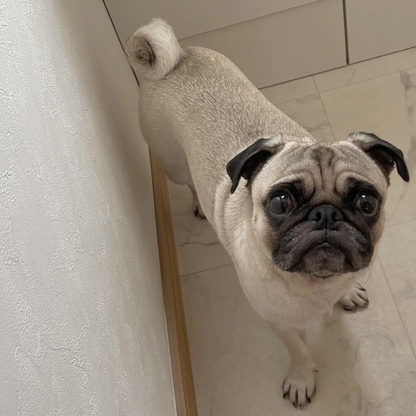Pug: (114, 11, 413, 416)
